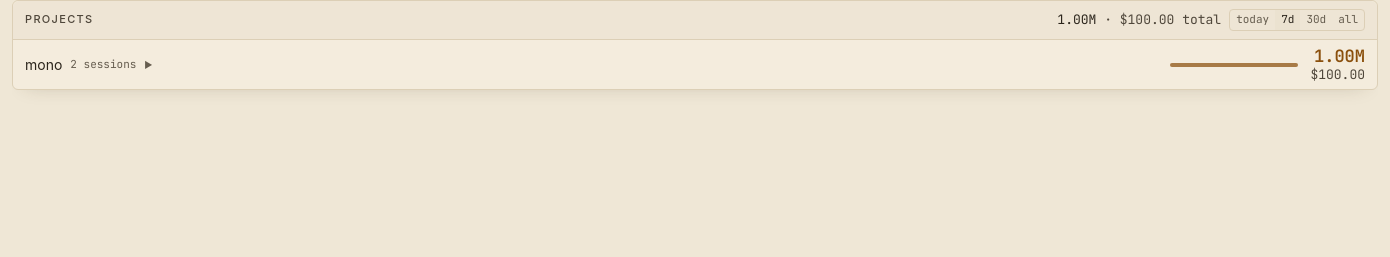
Test: ProjectsPanel figures › names the two non-directory rows for what they are, never as a directory or a defect
The image size is (1390, 257).
Step 1. Click the button titled "mono: show cost by directory" → x=44, y=64, box [13, 40, 1377, 89]
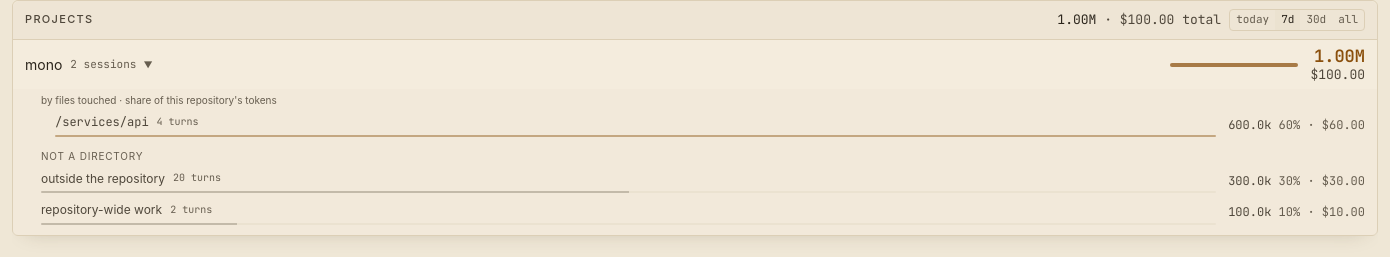
Check: the text "/services/api" is shown, box [55, 114, 149, 131]
Check: the text "outside the repository" is shown, box [41, 170, 165, 187]
Check: the text "repository-wide work" is shown, box [41, 201, 162, 219]
